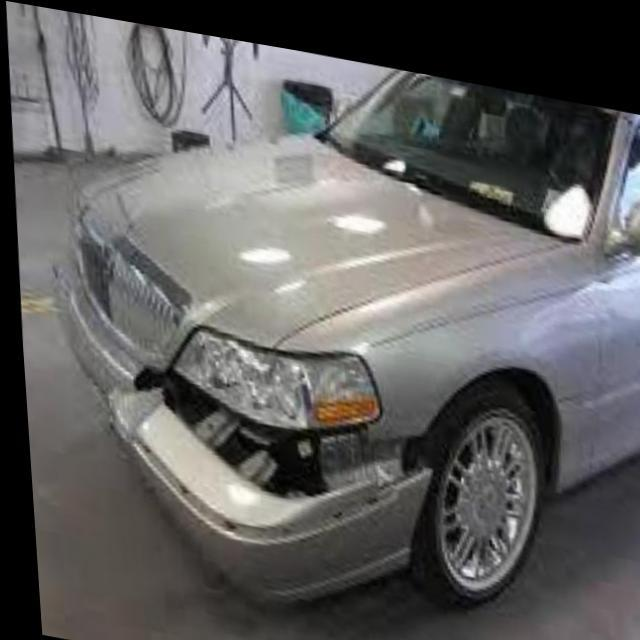dislocated part: (108, 361, 427, 538)
